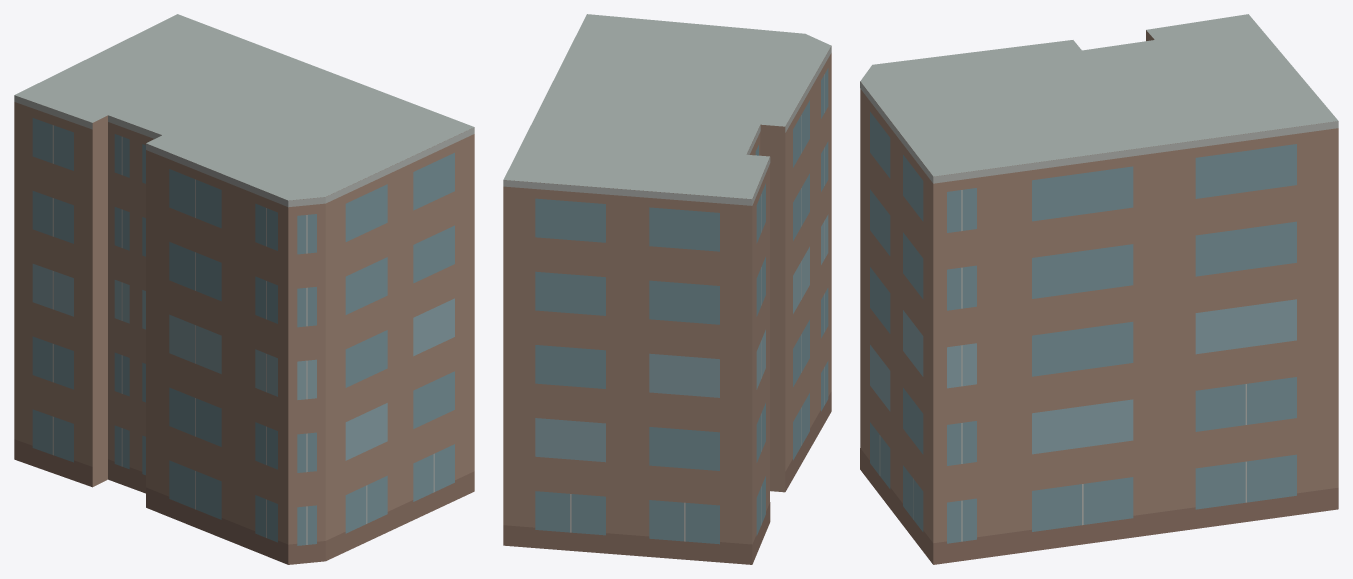
File: survey-upis-33009910.glb
3 renders of one model, left to right at view 1: azimuth 30°, elevation 25°; view 2: azimuth 150°, elevation 25°; view 3: azimuth 270°, elevation 25°, orthographic. The views are drawn at different scales.
Visible parts, largest first — view 1: survey-upis-33009910.tmp; view 2: survey-upis-33009910.tmp; view 3: survey-upis-33009910.tmp.
Boxes of the visible parts, box(x1,y1,x2,y2) form: survey-upis-33009910.tmp: box(14, 14, 474, 564); survey-upis-33009910.tmp: box(503, 14, 831, 564); survey-upis-33009910.tmp: box(860, 14, 1338, 564).
Bounding box in the file's own units: 12 × 13.35 × 14.92.
